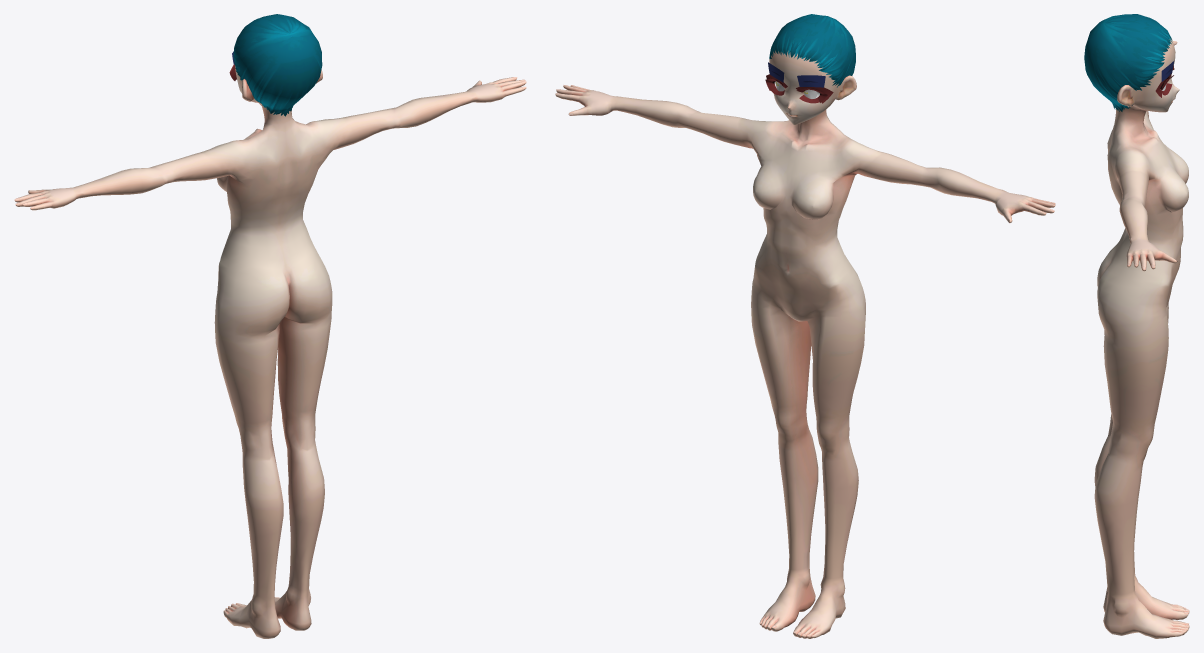
File: FemaleBase.fbx
The picture shows the model from 3 angles, left to right: view 1: azimuth 30°, elevation 25°; view 2: azimuth 150°, elevation 25°; view 3: azimuth 270°, elevation 25°; orthographic projection. The views are drawn at different scales.
Visible parts, largest first — view 1: node_id17 (×4); view 2: node_id17 (×4), node_id5; view 3: node_id17 (×4), node_id5 (×2).
Part boxes in pixels (x1,y1,x2,y2): node_id17 (×4): (14, 14, 526, 638); node_id17 (×4): (555, 14, 1055, 638); node_id5: (769, 50, 840, 124); node_id17 (×4): (1084, 14, 1189, 638); node_id5 (×2): (1117, 38, 1179, 112).
Bounding box in the file's own units: 0.4479 × 0.512 × 0.0805.
Materials: 15 (15 with a texture image).
